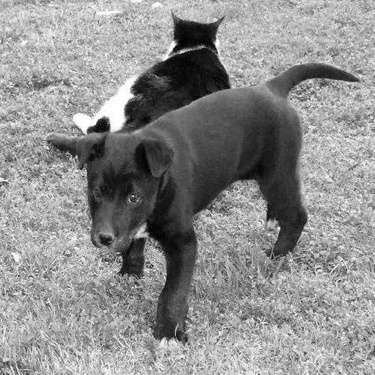cat: (66, 5, 237, 140)
dog: (38, 62, 365, 352)
